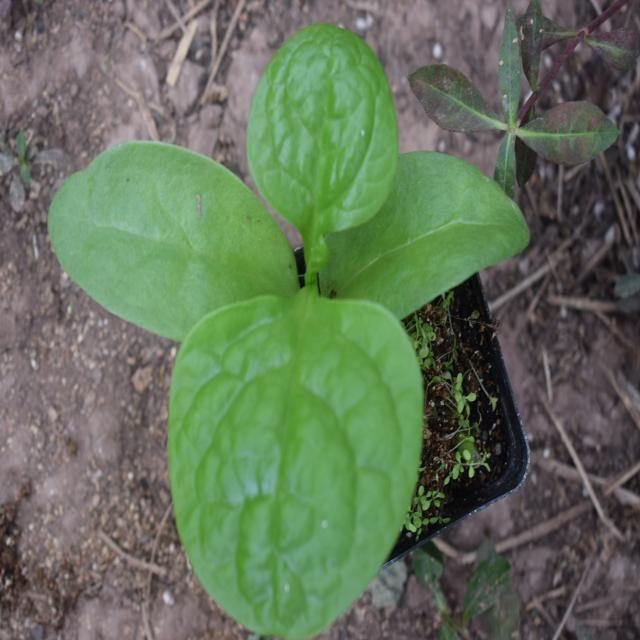Ceylon spinach: (72, 45, 425, 637)
